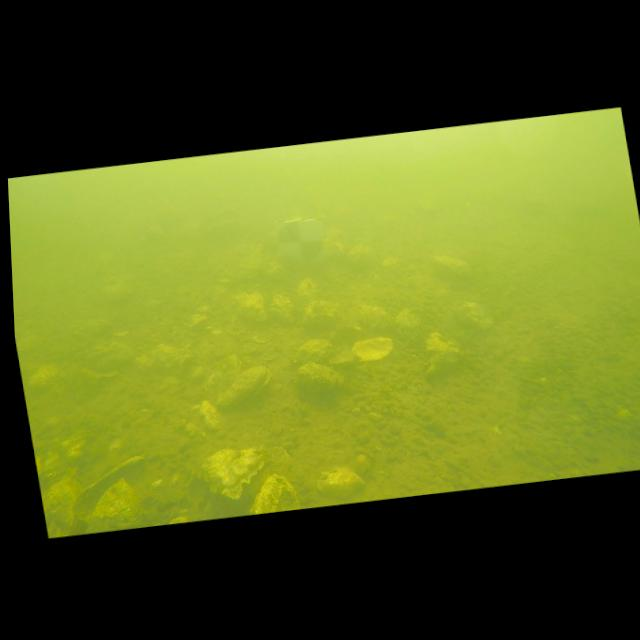Oyster-Closed: (202, 446, 267, 499), (216, 365, 271, 406), (250, 473, 300, 514), (137, 343, 193, 374), (87, 340, 135, 373), (425, 331, 460, 376), (317, 468, 365, 498), (296, 362, 343, 392), (453, 301, 494, 332), (293, 339, 337, 364), (432, 255, 471, 283), (358, 304, 395, 331), (233, 292, 267, 321), (295, 277, 320, 307), (269, 294, 295, 322), (29, 364, 58, 389)
Oyster-Indeterminate: (42, 468, 82, 537), (94, 481, 140, 527), (203, 352, 243, 396)
Oyster-Open: (77, 454, 143, 497), (351, 336, 393, 361)
